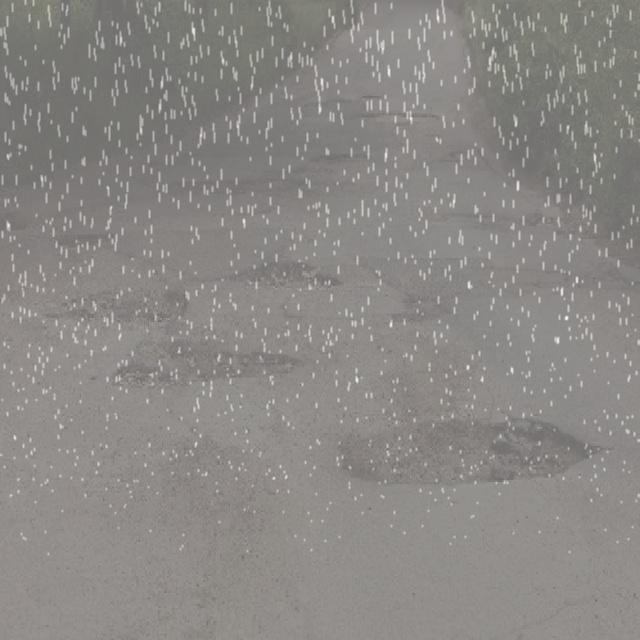Pothole: (332, 412, 614, 491), (360, 254, 560, 324), (177, 143, 368, 213), (109, 337, 318, 386), (44, 280, 191, 334), (408, 199, 593, 234), (208, 252, 340, 295), (350, 100, 444, 129), (38, 226, 122, 252), (444, 149, 504, 170)
